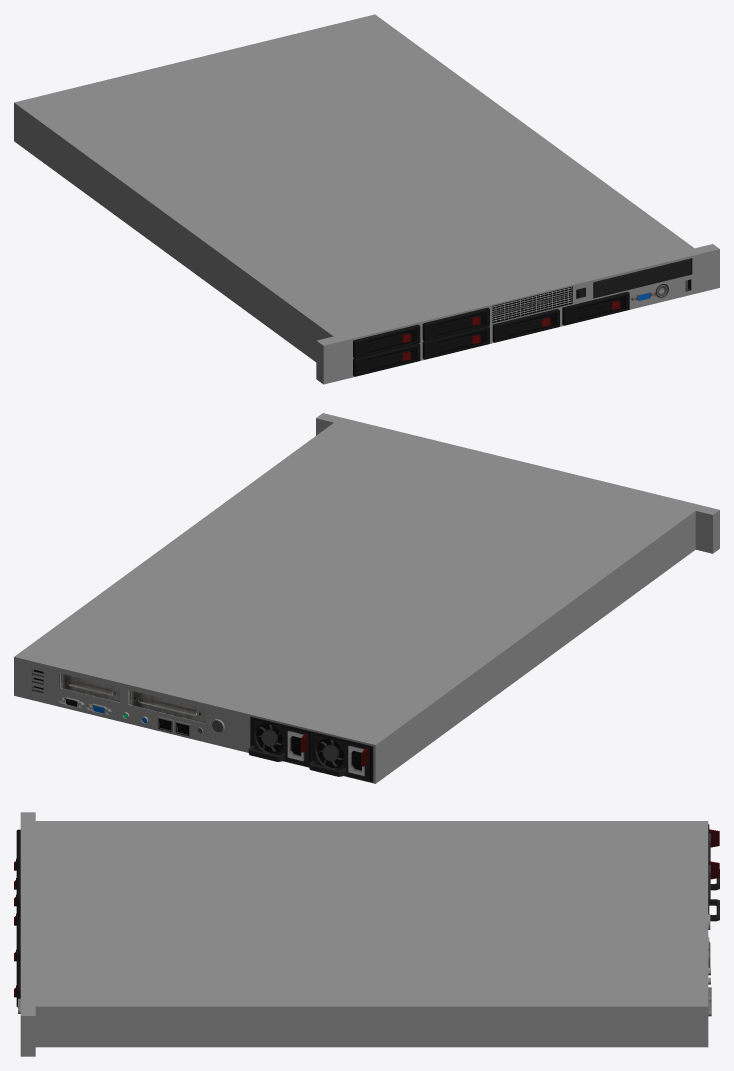
3 views of the same model, one above another, from view 1: azimuth 30°, elevation 25°; view 2: azimuth 150°, elevation 25°; view 3: azimuth 270°, elevation 25° (orthographic). The views are drawn at different scales.
Visible parts, largest first — view 1: HPE_DL360_G5; view 2: HPE_DL360_G5; view 3: HPE_DL360_G5.
Part boxes in pixels (x1,y1,x2,y2): HPE_DL360_G5: (14,14,719,384); HPE_DL360_G5: (14,413,719,783); HPE_DL360_G5: (14,812,719,1056).
Size of the model in its own units: 476 by 44.5 by 698.
19 materials, 2 textured.
